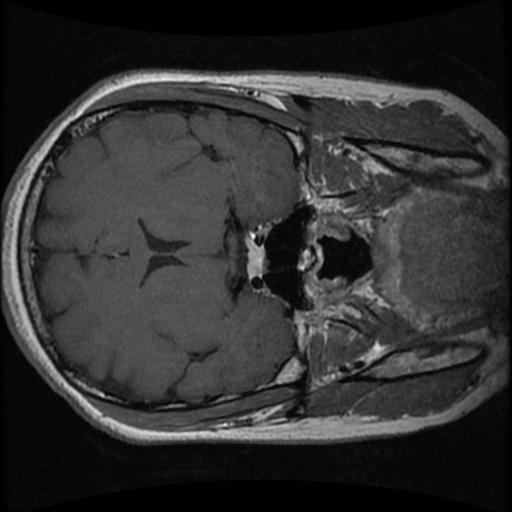pituitary tumour: (243, 229, 269, 284)
